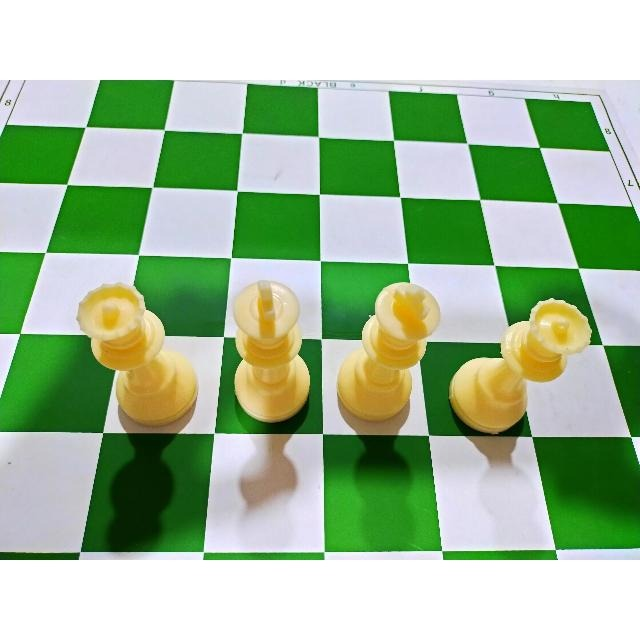white-king: (331, 276, 445, 434), (226, 268, 316, 429)
white-queen: (442, 289, 593, 440), (71, 277, 203, 430)
